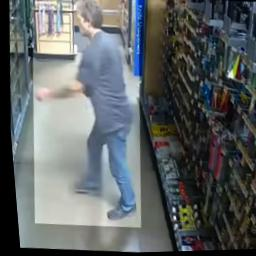nonspitting: (15, 0, 154, 233)
